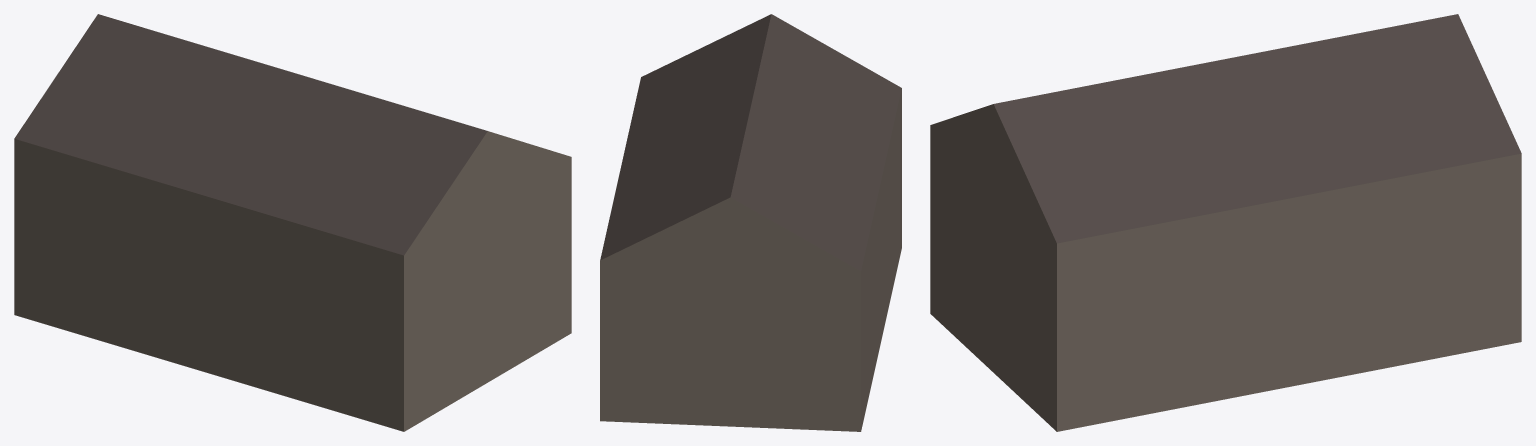
3 views of the same model, side by side, from view 1: azimuth 30°, elevation 25°; view 2: azimuth 150°, elevation 25°; view 3: azimuth 270°, elevation 25° (orthographic). The views are drawn at different scales.
Visible parts, largest first — view 1: HP-w293412308; view 2: HP-w293412308; view 3: HP-w293412308.
Part boxes in pixels (<box>): HP-w293412308: <box>14,14,571,431</box>; HP-w293412308: <box>600,14,901,431</box>; HP-w293412308: <box>930,14,1521,431</box>.
Size of the model in its own units: 14.23 by 8.56 by 17.07.
